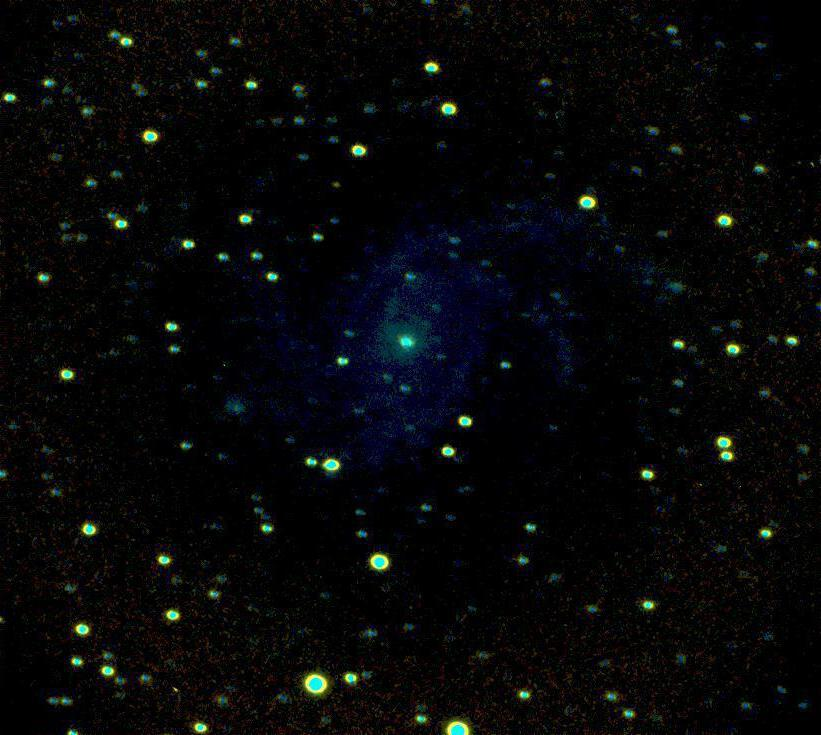star: (323, 170, 353, 200)
